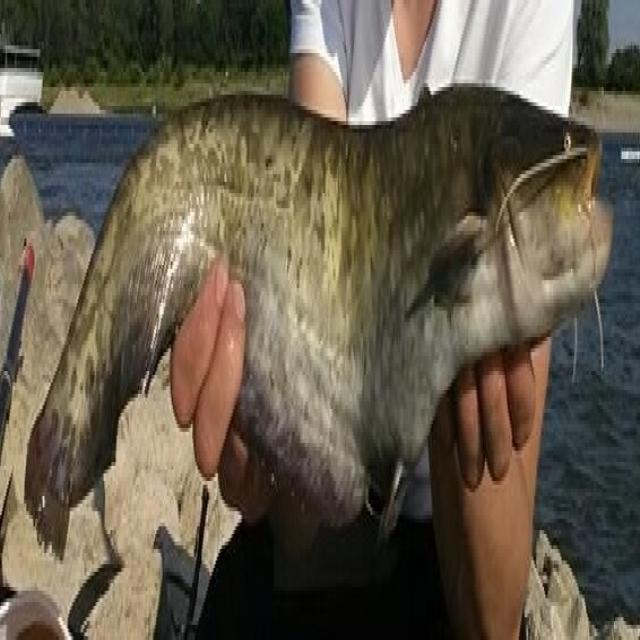Catfish: (44, 83, 622, 609)
